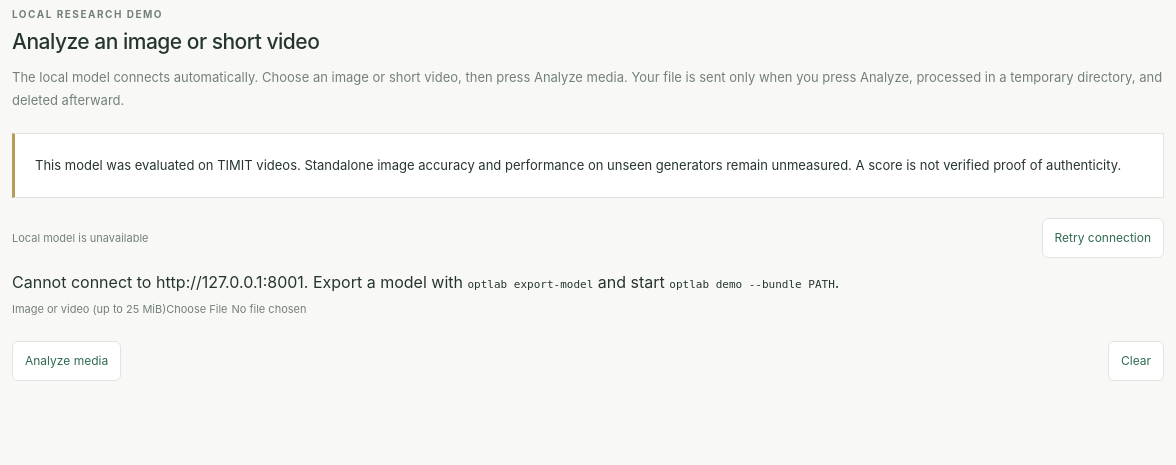
Test: shows a failed demo connection and lets the user retry
The width and height of the screenshot is (1176, 465).
expect the text "Local model is unavailable" is shown: met, box left=12, top=231, right=148, bottom=245
expect the button "Analyze media" is disabled: met, box left=12, top=341, right=121, bottom=381
Click the button "Retry connection" at (1103, 238), box left=1042, top=218, right=1164, bottom=258
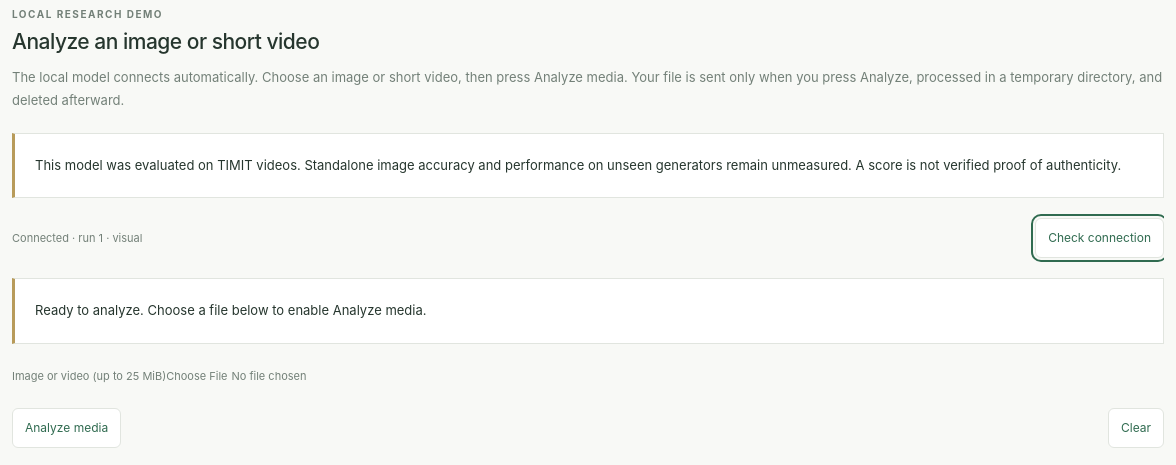
expect the text "Connected · run 1 · visual" is shown: met, box left=12, top=231, right=142, bottom=245
expect the text "Choose a file below" is shown: met, box left=35, top=302, right=426, bottom=318
